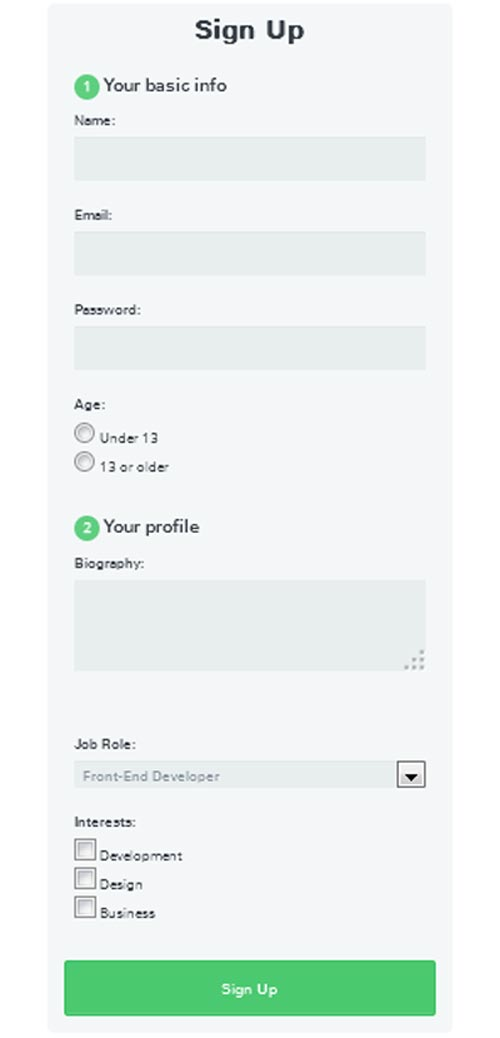_form_: (44, 383, 460, 800), (49, 618, 465, 1034), (43, 1, 459, 416)
button: (62, 958, 436, 1018)
checkbox: (71, 835, 100, 865), (71, 893, 101, 922), (73, 863, 100, 892)
checkbox_with_label: (68, 834, 184, 866), (68, 892, 155, 924), (70, 861, 146, 895)
field: (70, 577, 426, 675), (70, 323, 431, 372), (72, 228, 423, 278), (74, 135, 428, 182), (72, 757, 429, 790)
field_with_label: (66, 555, 432, 677), (67, 302, 436, 376), (70, 112, 432, 186), (69, 207, 427, 280), (69, 736, 433, 794)
radio: (71, 420, 101, 448), (73, 446, 99, 476)
radio_with_label: (65, 416, 162, 451), (67, 446, 167, 478)
